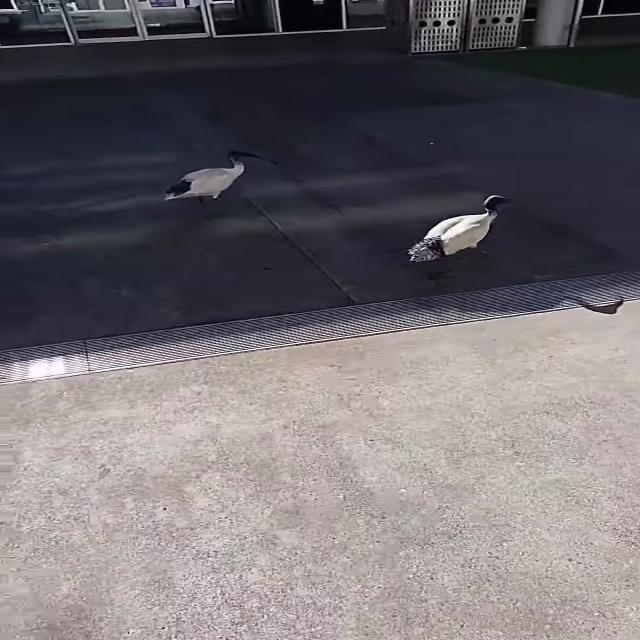Birds-Ibis: (400, 188, 537, 281), (157, 144, 280, 222)
